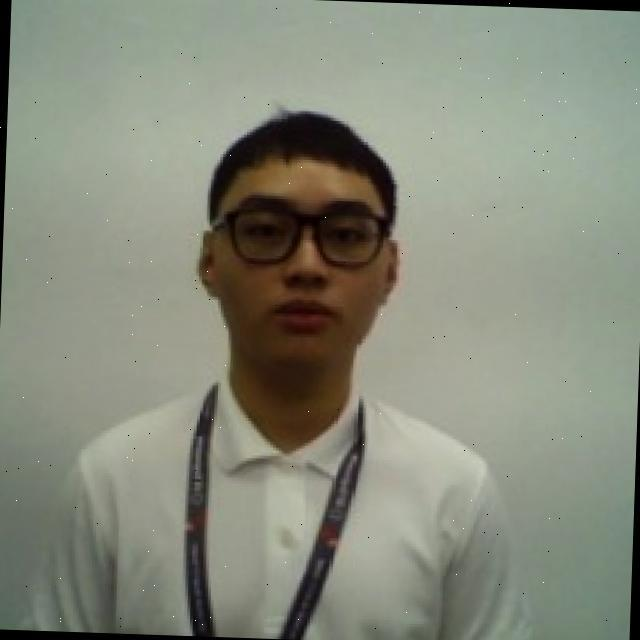no_gloves: (188, 101, 419, 237)
no_hairnet: (192, 237, 409, 376)
